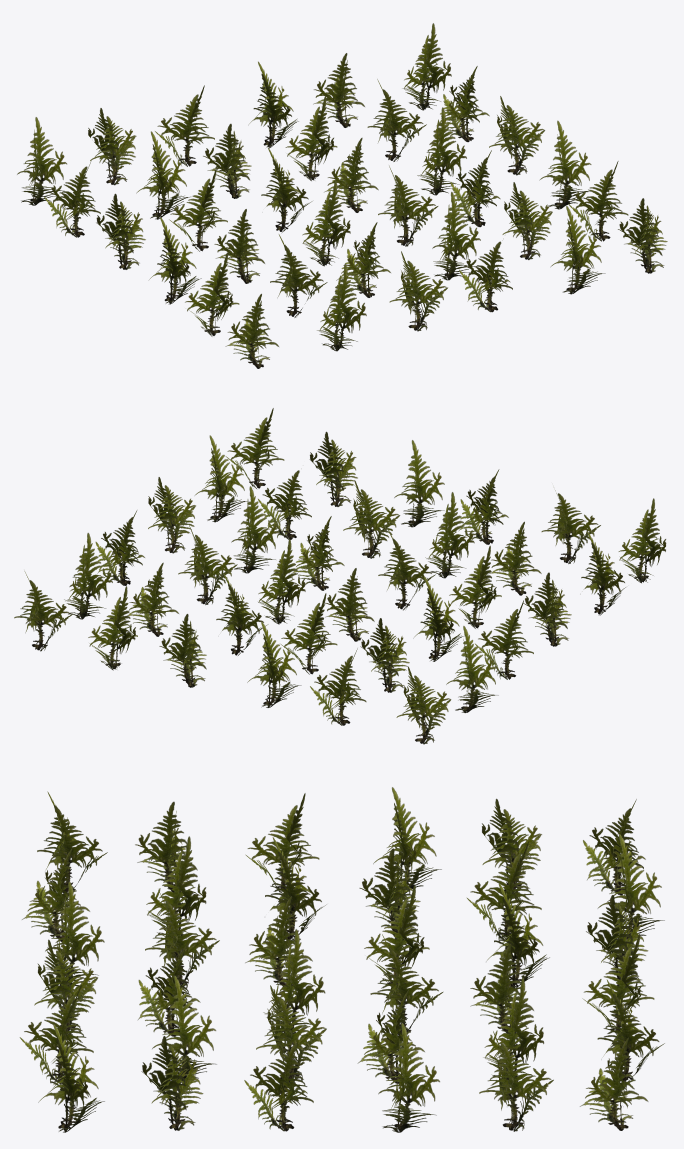
Rendered from moss_01.glb.
3 renders of one model, top to bottom at view 1: azimuth 30°, elevation 25°; view 2: azimuth 150°, elevation 25°; view 3: azimuth 270°, elevation 25°, orthographic. The views are drawn at different scales.
Parts seen in each view (by area): view 1: moss_01_a_LOD1; view 2: moss_01_a_LOD1; view 3: moss_01_a_LOD1.
Part boxes in pixels (box(x1,y1,x2,y2)): moss_01_a_LOD1: box(17, 23, 667, 368); moss_01_a_LOD1: box(14, 408, 666, 744); moss_01_a_LOD1: box(19, 787, 664, 1132).
Size of the model in its own units: 0.1357 by 0.026 by 0.1351.
1 material, 1 textured.
